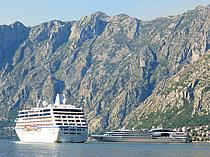Ship: (16, 93, 91, 150), (92, 125, 194, 148)
